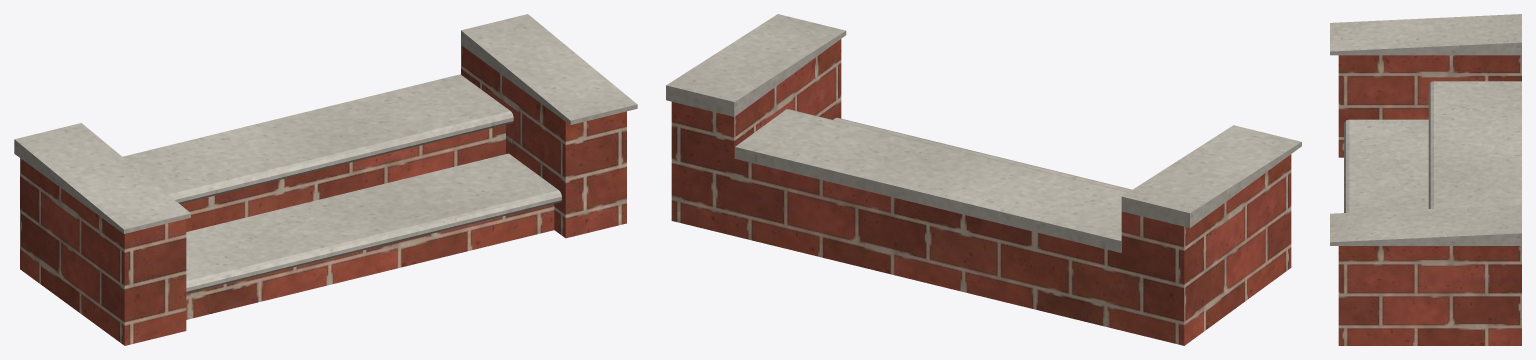
File: brick_steps.glb
3 renders of one model, left to right at view 1: azimuth 30°, elevation 25°; view 2: azimuth 150°, elevation 25°; view 3: azimuth 270°, elevation 25°, orthographic. The views are drawn at different scales.
Visible parts, largest first — view 1: brick_steps_cap, brick_steps_brick; view 2: brick_steps_brick, brick_steps_cap; view 3: brick_steps_cap, brick_steps_brick.
Boxes of the visible parts, bbox=[...] form: brick_steps_cap: bbox=[14, 14, 637, 293]; brick_steps_brick: bbox=[20, 45, 626, 345]; brick_steps_brick: bbox=[671, 39, 1291, 345]; brick_steps_cap: bbox=[666, 14, 1301, 252]; brick_steps_cap: bbox=[1330, 14, 1521, 245]; brick_steps_brick: bbox=[1338, 55, 1521, 345].
Size of the model in its own units: 1.84 by 0.45 by 0.68.
2 materials, 2 textured.
